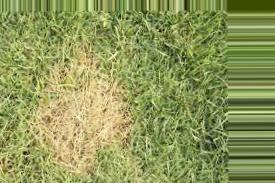patch: (49, 85, 109, 132), (72, 62, 105, 86), (55, 135, 84, 154)
